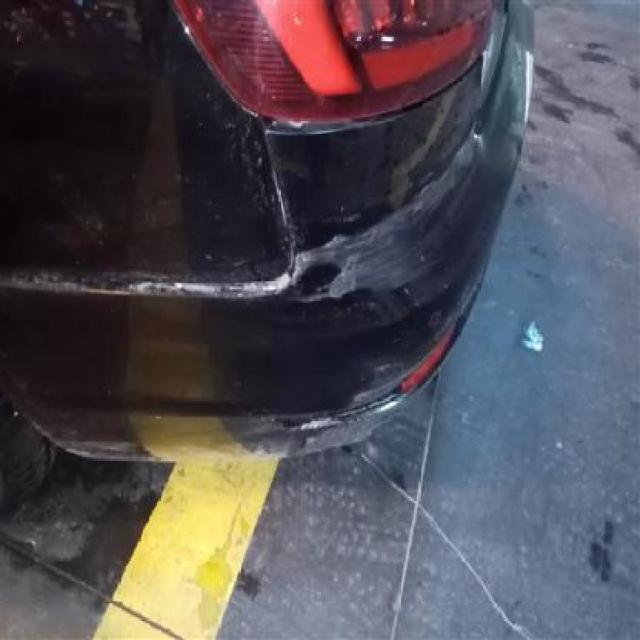car damage: (290, 266, 352, 305)
